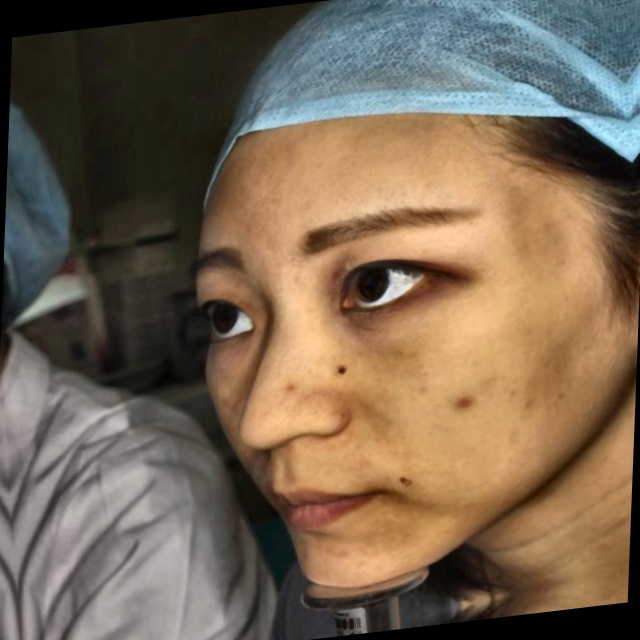comedone: (443, 386, 476, 420)
